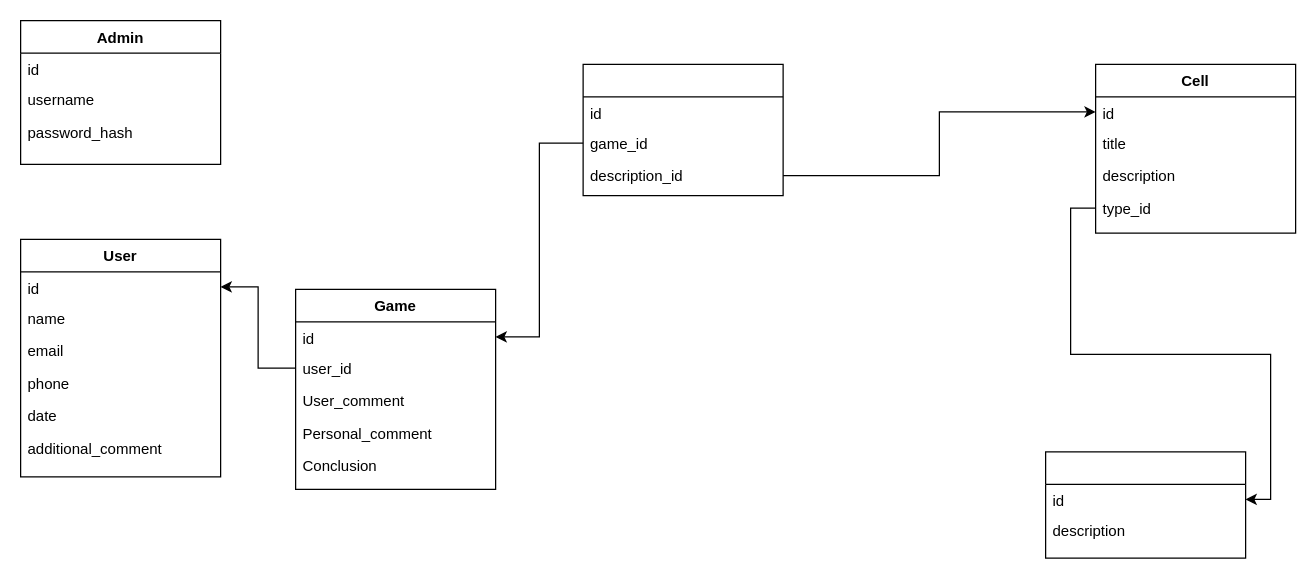
Image size: 1316x579. Some labels were removed from this diagram. Each missing label, with the box of its shape:
Game_Cell: (582, 63, 783, 196)
type: (1044, 451, 1246, 558)
